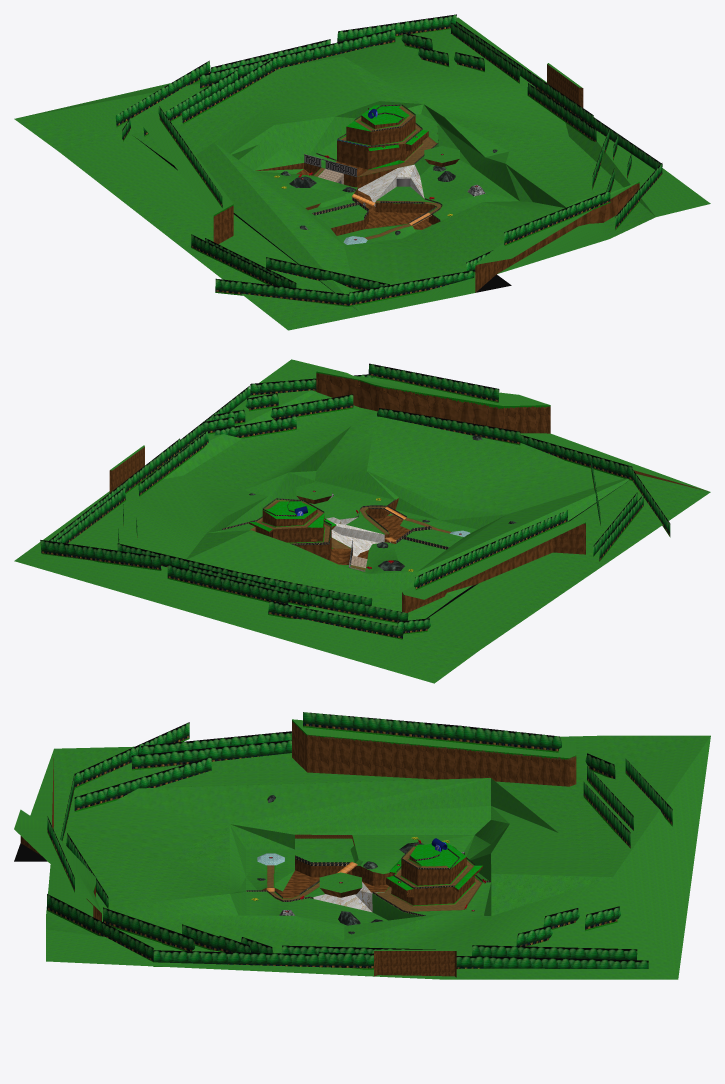
The picture shows the model from 3 angles, top to bottom: view 1: azimuth 30°, elevation 25°; view 2: azimuth 150°, elevation 25°; view 3: azimuth 270°, elevation 25°; orthographic projection. The views are drawn at different scales.
Parts seen in each view (by area): view 1: BobOmb2-GRP-OBJ-62645-Material010_12436720_cbmp, BobOmb2-SKP--nr_128_1, BobOmb2-GRP-OBJ-62645-Material023_1FAAE88D_cbmp, BobOmb2-GRP-OBJ-62645-Material024_1FAAE88D_cbmp, BobOmb2-GRP-OBJ-62645-Material017_6C631877_cbmp, BobOmb2-GRP-OBJ-62645-Material025_12436720_cbmp, BobOmb2-GRP-OBJ-62645-Material026_6B2D96F_cbmp, BobOmb2-GRP-OBJ-62645-Material071_574B138E_cbmp, BobOmb2-GRP-OBJ-62645-Material010_C1DF883_cbmp, BobOmb2-GRP-OBJ-62645-Material070_41A41EE3_cbmp; view 2: BobOmb2-GRP-OBJ-62645-Material010_12436720_cbmp, BobOmb2-SKP--nr_128_1, BobOmb2-GRP-OBJ-62645-Material024_1FAAE88D_cbmp, BobOmb2-GRP-OBJ-62645-Material023_1FAAE88D_cbmp, BobOmb2-GRP-OBJ-62645-Material026_6B2D96F_cbmp, BobOmb2-GRP-OBJ-62645-Material017_6C631877_cbmp, BobOmb2-GRP-OBJ-62645-Material025_12436720_cbmp, BobOmb2-GRP-OBJ-62645-Material071_574B138E_cbmp; view 3: BobOmb2-GRP-OBJ-62645-Material010_12436720_cbmp, BobOmb2-SKP--nr_128_1, BobOmb2-GRP-OBJ-62645-Material024_1FAAE88D_cbmp, BobOmb2-GRP-OBJ-62645-Material023_1FAAE88D_cbmp, BobOmb2-GRP-OBJ-62645-Material026_6B2D96F_cbmp, BobOmb2-GRP-OBJ-62645-Material025_12436720_cbmp, BobOmb2-GRP-OBJ-62645-Material071_574B138E_cbmp, BobOmb2-GRP-OBJ-62645-Material017_6C631877_cbmp, BobOmb2-GRP-OBJ-62645-Material028_6E3A21B_cbmp, BobOmb2-GRP-OBJ-62645-Material010_C1DF883_cbmp.
Part boxes in pixels (x1,y1,x2,y2): BobOmb2-GRP-OBJ-62645-Material010_12436720_cbmp: [14, 17, 710, 330]; BobOmb2-SKP--nr_128_1: [115, 14, 662, 306]; BobOmb2-GRP-OBJ-62645-Material023_1FAAE88D_cbmp: [255, 105, 459, 235]; BobOmb2-GRP-OBJ-62645-Material024_1FAAE88D_cbmp: [213, 64, 639, 292]; BobOmb2-GRP-OBJ-62645-Material017_6C631877_cbmp: [358, 164, 424, 206]; BobOmb2-GRP-OBJ-62645-Material025_12436720_cbmp: [347, 105, 427, 169]; BobOmb2-GRP-OBJ-62645-Material026_6B2D96F_cbmp: [213, 106, 639, 265]; BobOmb2-GRP-OBJ-62645-Material071_574B138E_cbmp: [312, 104, 442, 220]; BobOmb2-GRP-OBJ-62645-Material010_C1DF883_cbmp: [280, 149, 497, 235]; BobOmb2-GRP-OBJ-62645-Material070_41A41EE3_cbmp: [304, 155, 410, 186]; BobOmb2-GRP-OBJ-62645-Material010_12436720_cbmp: [14, 359, 710, 683]; BobOmb2-SKP--nr_128_1: [40, 363, 670, 639]; BobOmb2-GRP-OBJ-62645-Material024_1FAAE88D_cbmp: [109, 373, 707, 612]; BobOmb2-GRP-OBJ-62645-Material023_1FAAE88D_cbmp: [248, 496, 409, 564]; BobOmb2-GRP-OBJ-62645-Material026_6B2D96F_cbmp: [249, 371, 585, 596]; BobOmb2-GRP-OBJ-62645-Material017_6C631877_cbmp: [326, 517, 384, 556]; BobOmb2-GRP-OBJ-62645-Material025_12436720_cbmp: [249, 501, 336, 531]; BobOmb2-GRP-OBJ-62645-Material071_574B138E_cbmp: [222, 498, 448, 549]; BobOmb2-GRP-OBJ-62645-Material010_12436720_cbmp: [14, 719, 710, 979]; BobOmb2-SKP--nr_128_1: [47, 712, 672, 969]; BobOmb2-GRP-OBJ-62645-Material024_1FAAE88D_cbmp: [20, 721, 576, 977]; BobOmb2-GRP-OBJ-62645-Material023_1FAAE88D_cbmp: [261, 834, 482, 905]; BobOmb2-GRP-OBJ-62645-Material026_6B2D96F_cbmp: [93, 720, 576, 913]; BobOmb2-GRP-OBJ-62645-Material025_12436720_cbmp: [386, 841, 482, 890]; BobOmb2-GRP-OBJ-62645-Material071_574B138E_cbmp: [246, 845, 490, 916]; BobOmb2-GRP-OBJ-62645-Material017_6C631877_cbmp: [313, 882, 384, 912]; BobOmb2-GRP-OBJ-62645-Material028_6E3A21B_cbmp: [377, 883, 480, 911]; BobOmb2-GRP-OBJ-62645-Material010_C1DF883_cbmp: [257, 795, 455, 934].
Bounding box in the file's own units: 199444 × 35314 × 204452.
36 materials, 36 textured.
